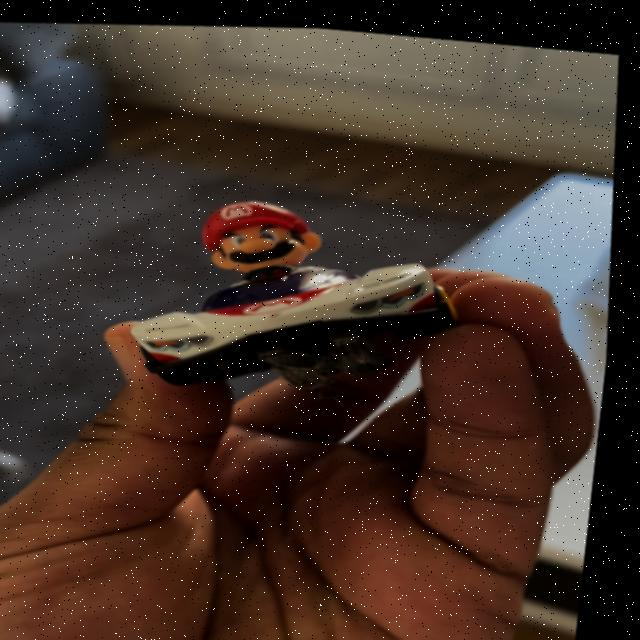mario: (23, 163, 494, 423)
